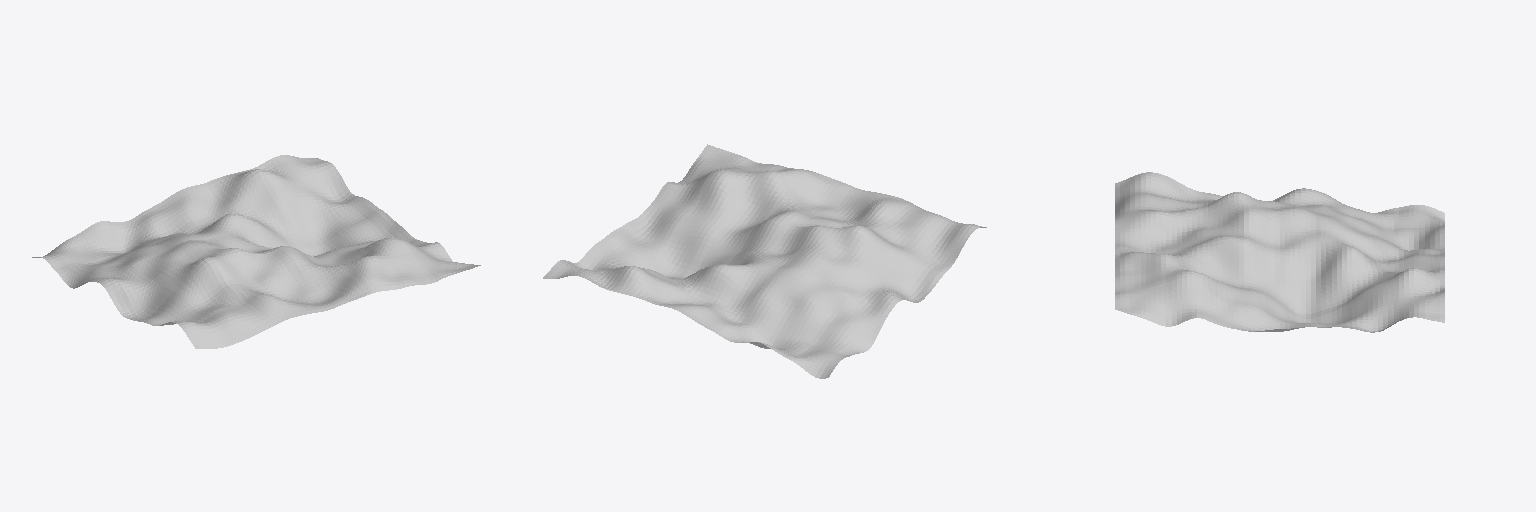
File: landscape.obj
3 renders of one model, left to right at view 1: azimuth 30°, elevation 25°; view 2: azimuth 150°, elevation 25°; view 3: azimuth 270°, elevation 25°, orthographic.
Parts seen in each view (by area): view 1: Plane; view 2: Plane; view 3: Plane.
Boxes of the visible parts, box(x1,y1,x2,y2) form: Plane: box(32, 155, 480, 348); Plane: box(543, 144, 986, 378); Plane: box(1115, 172, 1444, 332).
Size of the model in its own units: 30 by 5.94 by 30.